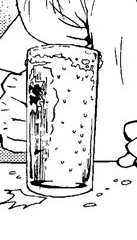beer: (18, 39, 106, 199)
cup: (21, 43, 105, 199)
